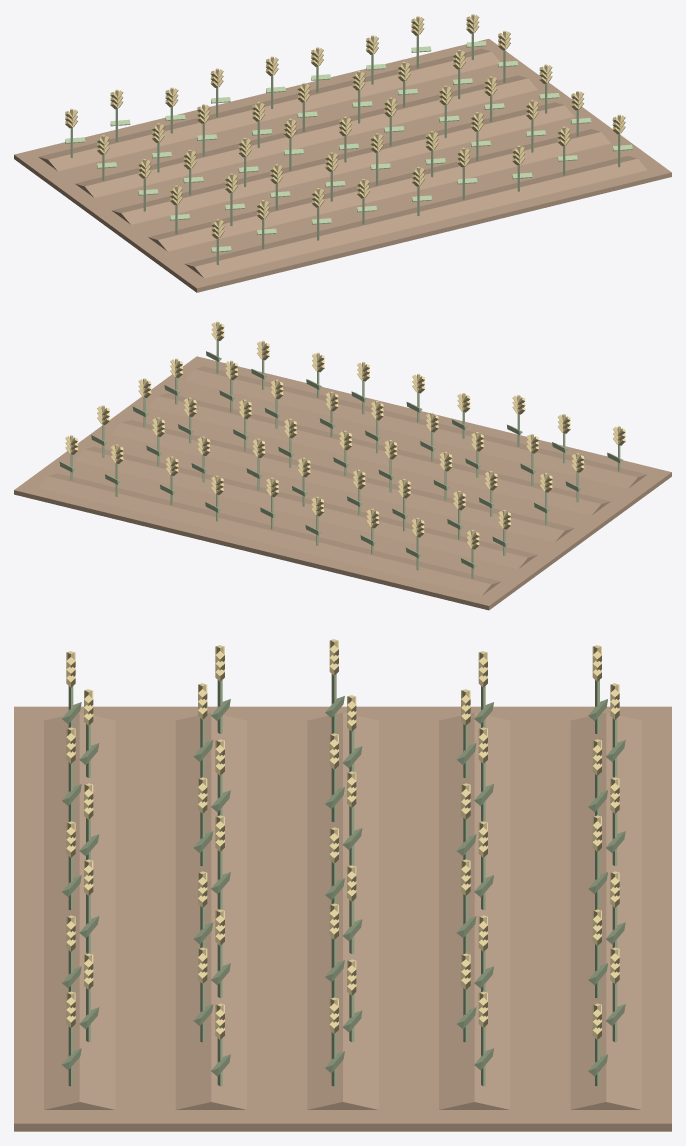
Rendered from field.glb.
3 renders of one model, top to bottom at view 1: azimuth 30°, elevation 25°; view 2: azimuth 150°, elevation 25°; view 3: azimuth 270°, elevation 25°, orthographic. The views are drawn at different scales.
Parts seen in each view (by area): view 1: field_soil, field_crop, field_leaf; view 2: field_soil, field_crop, field_leaf; view 3: field_soil, field_leaf, field_crop.
Part boxes in pixels (<box>): field_soil: <box>14,39,671,292</box>; field_crop: <box>65,14,625,238</box>; field_leaf: <box>65,33,632,265</box>; field_soil: <box>14,356,671,610</box>; field_crop: <box>65,321,625,549</box>; field_leaf: <box>59,340,622,578</box>; field_soil: <box>14,706,671,1131</box>; field_leaf: <box>61,674,625,1086</box>; field_crop: <box>66,639,619,1039</box>.
Bounding box in the file's own units: 3 × 0.3567 × 2.
